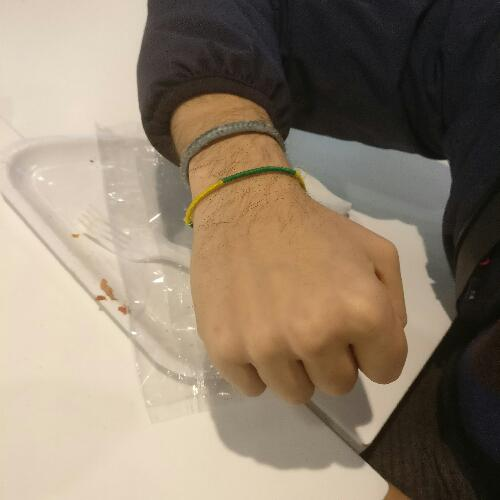rock: (186, 183, 418, 412)
